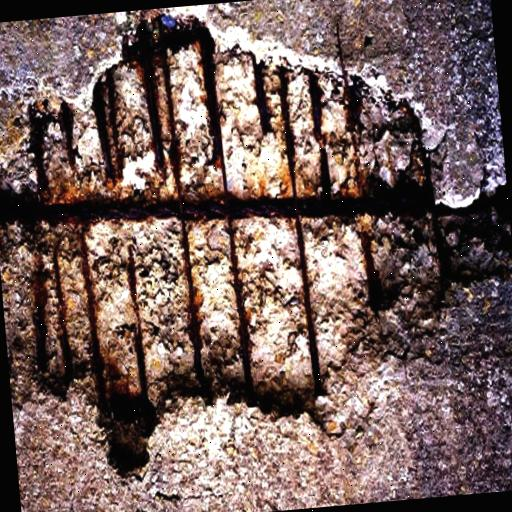spalling: (0, 8, 511, 475)
